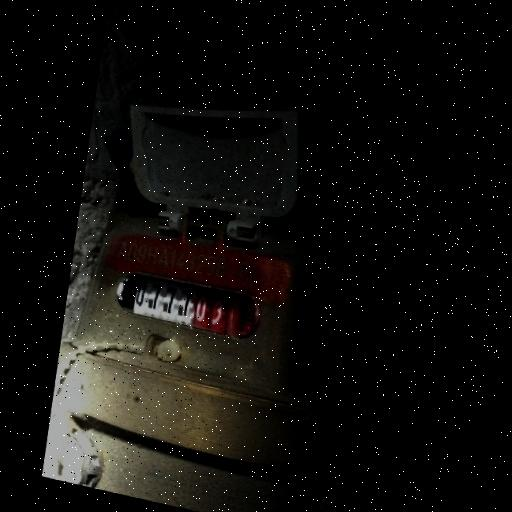0: (130, 275, 151, 312), (190, 290, 211, 326)
3: (207, 294, 227, 329)
7: (145, 277, 167, 316), (160, 279, 181, 318), (176, 283, 197, 319)
border_water_meter_number: (111, 264, 263, 341)
